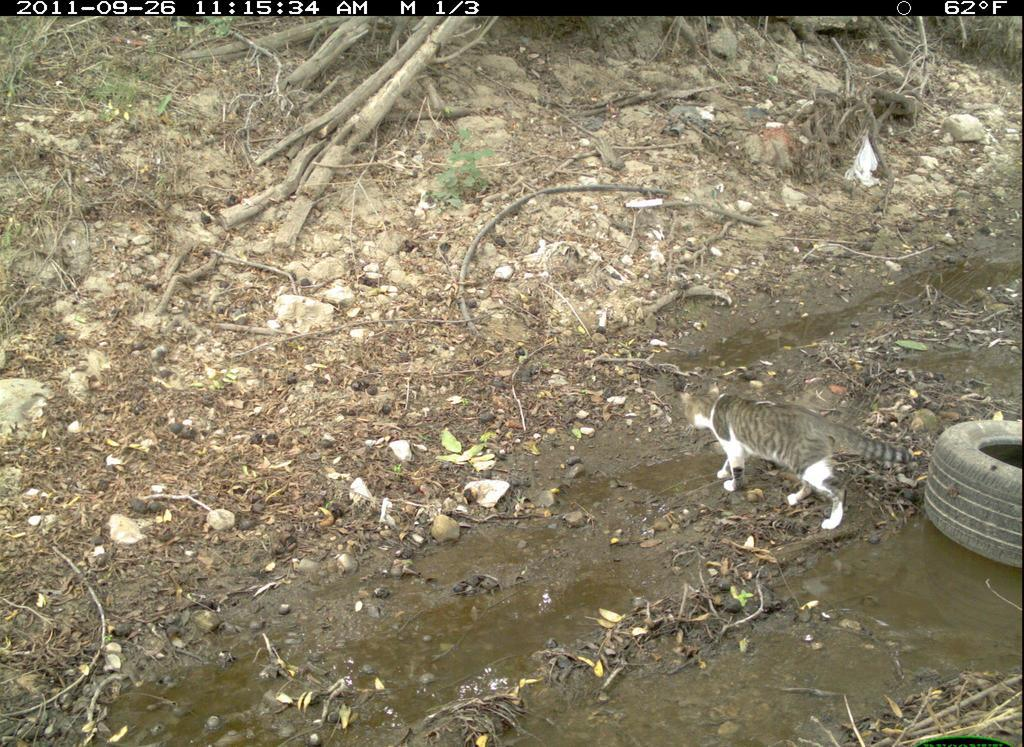cat: (666, 378, 923, 534)
